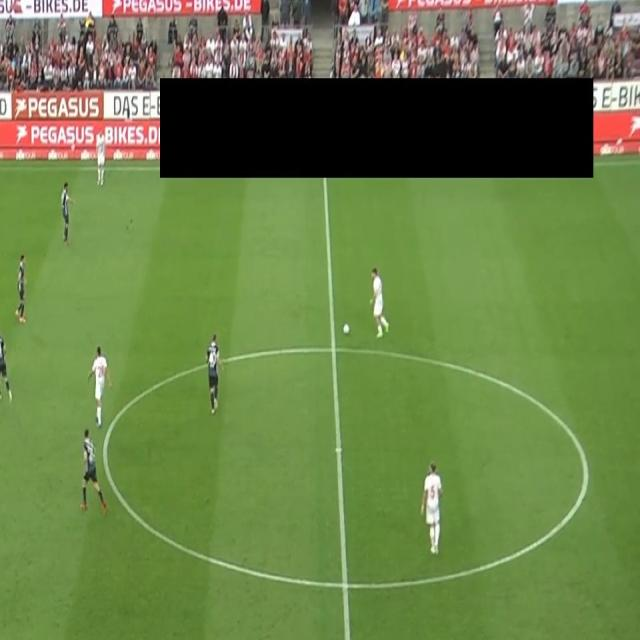ball: (342, 323, 351, 336)
